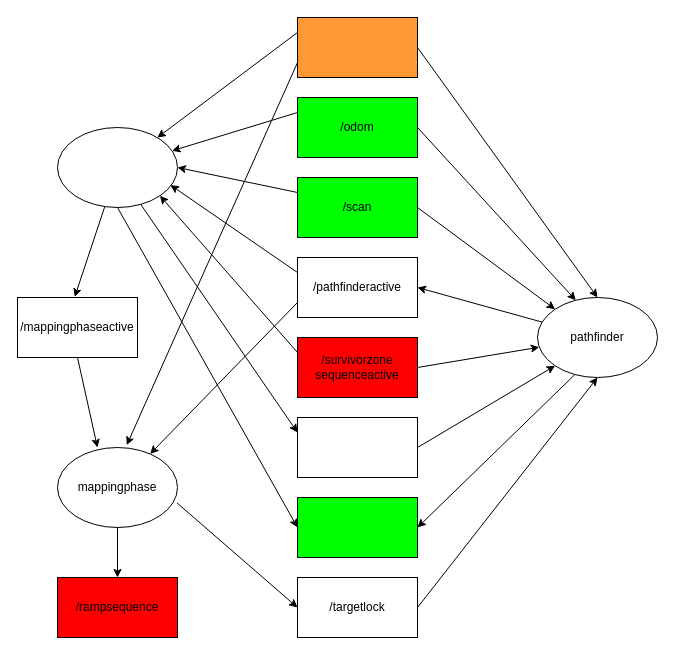
Image size: 675x655. Some labels were removed from this diagram. Here are the shapes that lost their labels. From the top down, the centre of each, then its label:
[357,47]: /map
[117,167]: searchingphase
[357,447]: /decisionpoint
[357,527]: /cmd_vel
